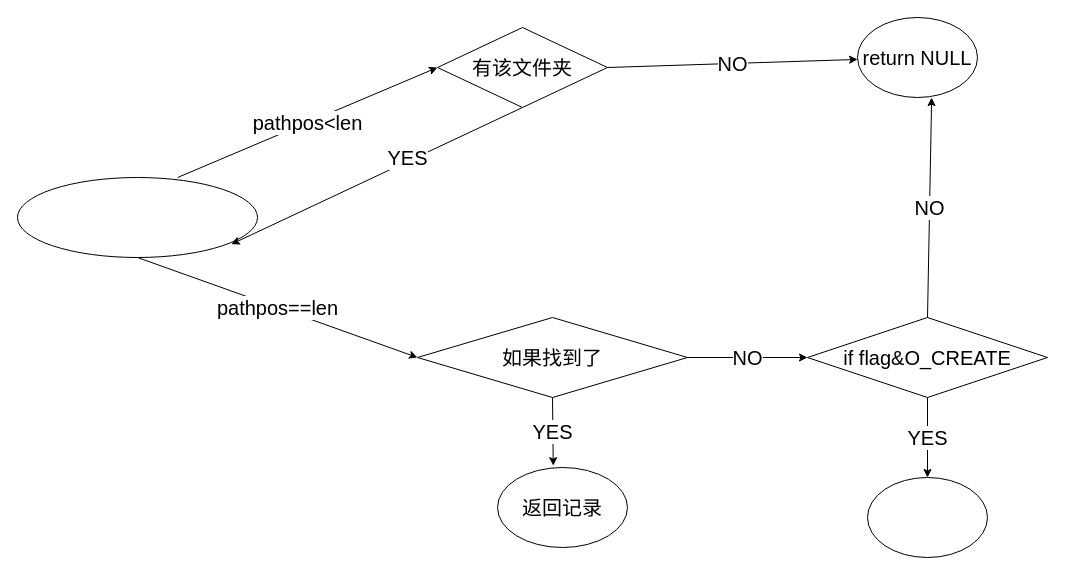
The diagram is 1065 pixels wide and 575 high, and some of its shapes have lost their labels. Each missing label, with the centre of its shape:
"create & return" goes at pixel 927 517.
"给定path 字符串" goes at pixel 137 217.
